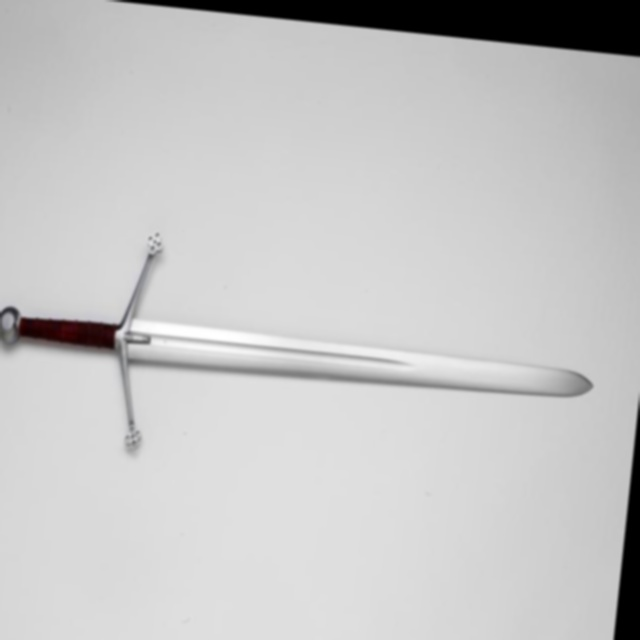Sharp-Object: (0, 287, 604, 430)
